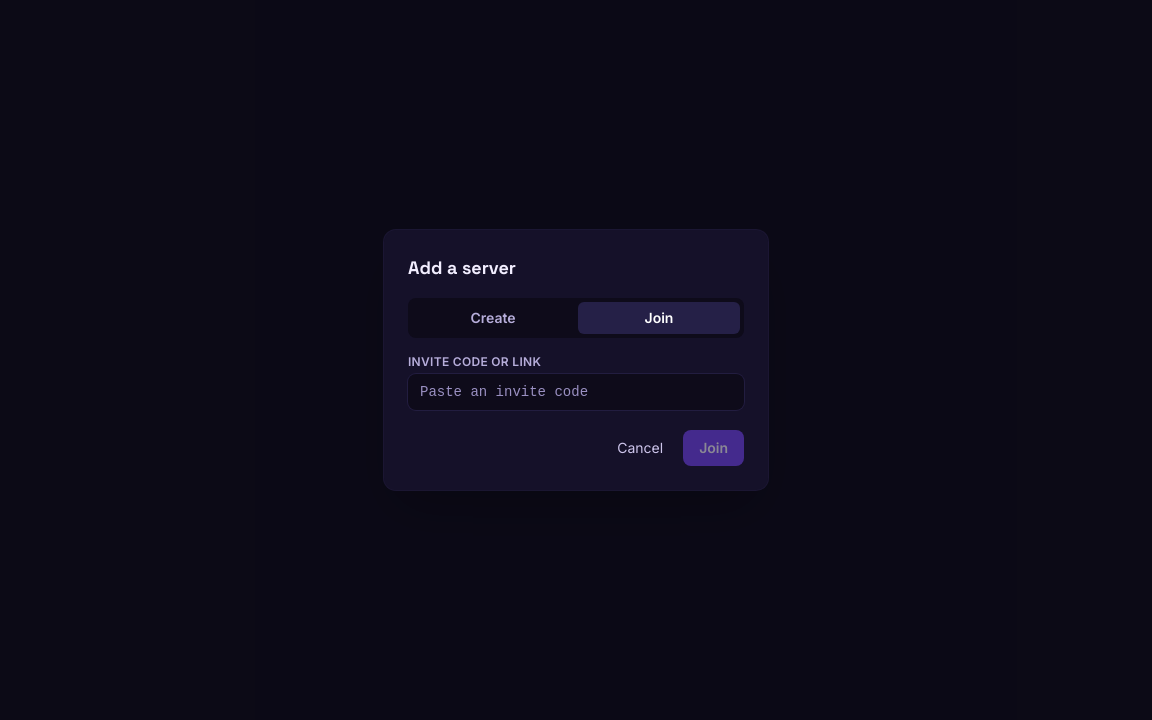
it: Join: says when you are banned, and Join is disabled (P3-26b)
Type "gone42" into the field labelled "Invite code or link".
click(576, 392); type("gone42")  # box [408,374,744,410]
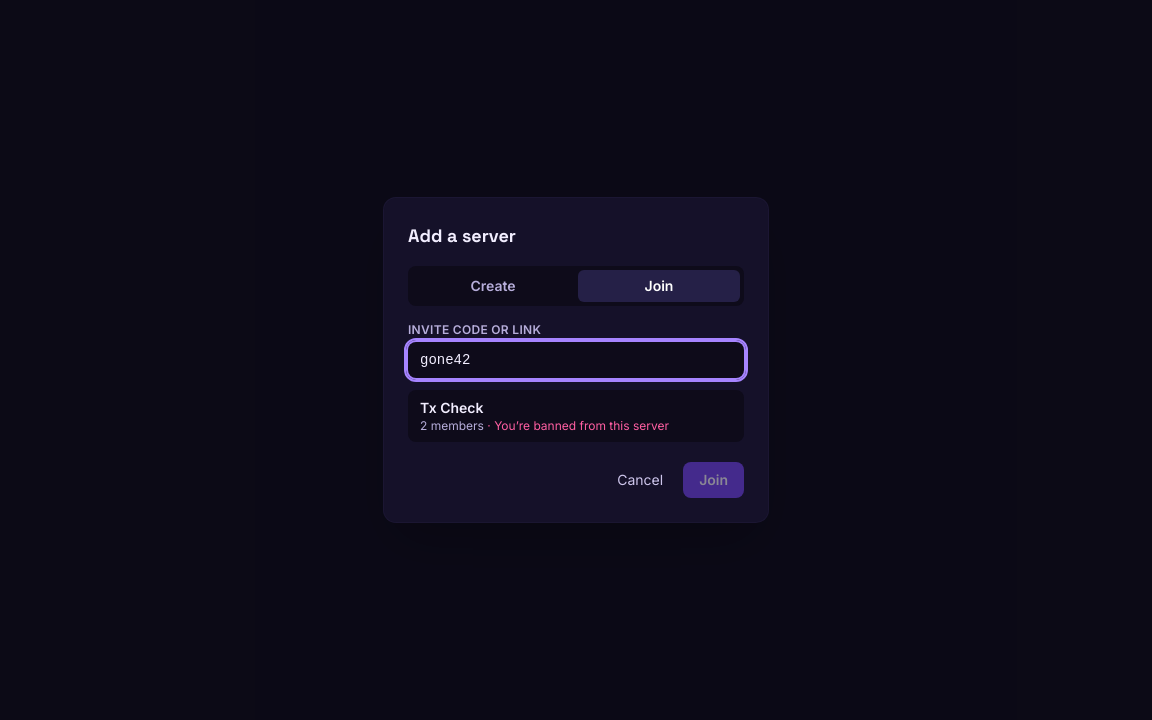
Expected: the button "Join" is disabled, [683,462,744,498]
Now the text "· You’re banned from this server" is shown, box [484,418,669,433]
